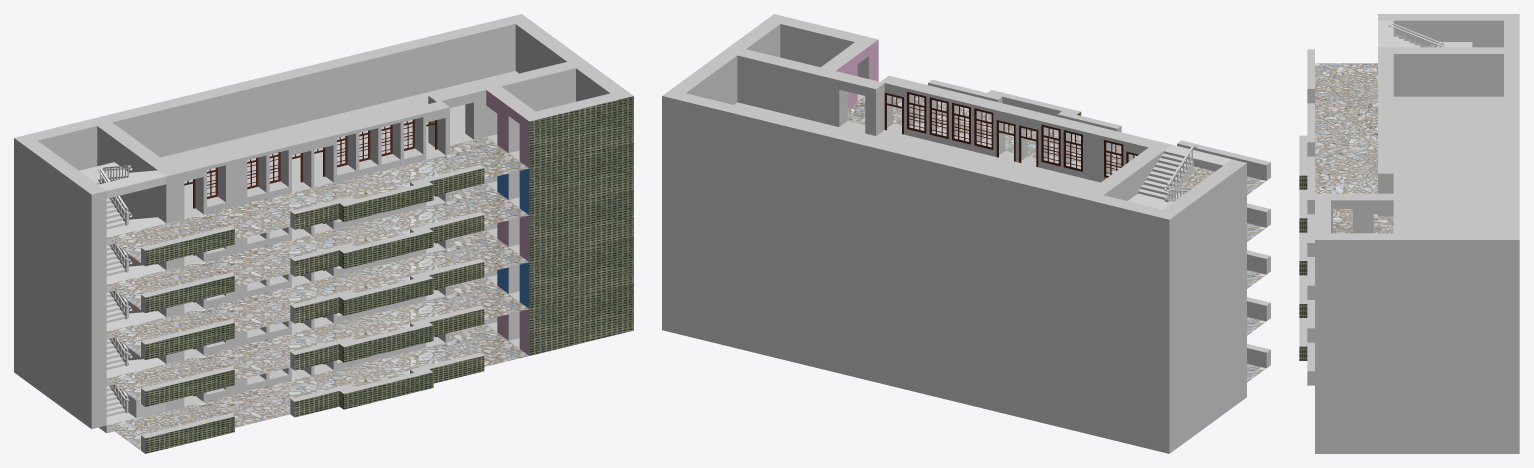
Rendered from A1_Building_Textured.fbx.
The picture shows the model from 3 angles, left to right: view 1: azimuth 30°, elevation 25°; view 2: azimuth 150°, elevation 25°; view 3: azimuth 270°, elevation 25°; orthographic projection. The views are drawn at different scales.
Visible parts, largest first — view 1: Cube.035; view 2: Cube.035; view 3: Cube.035.
Part boxes in pixels (x1=…): Cube.035: x1=14, y1=14, x2=633, y2=453; Cube.035: x1=662, y1=14, x2=1270, y2=453; Cube.035: x1=1299, y1=14, x2=1519, y2=453.
Size of the model in its own units: 3400 by 1627 by 1400.
7 materials, 3 textured.
